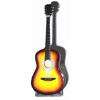guitar: (31, 4, 67, 95)
